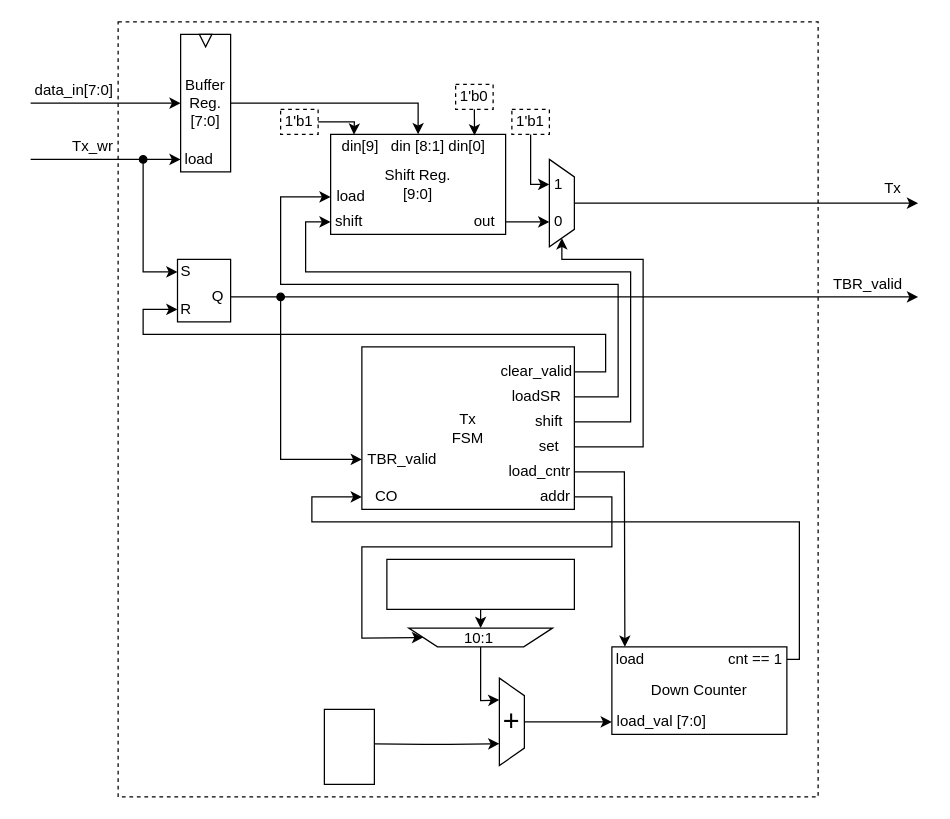
This 950x819 diagram has some shape labels left out. The centre of each missing label's shape, as x and y in pixels:
bitMask [9:0]: point (480, 583)
data count [7:0]: point (348, 746)
